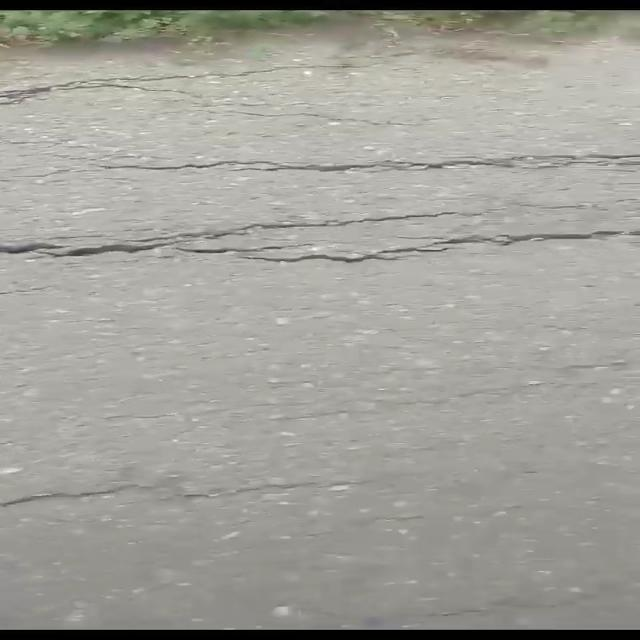Melintang: (0, 215, 640, 278), (0, 137, 640, 188)
